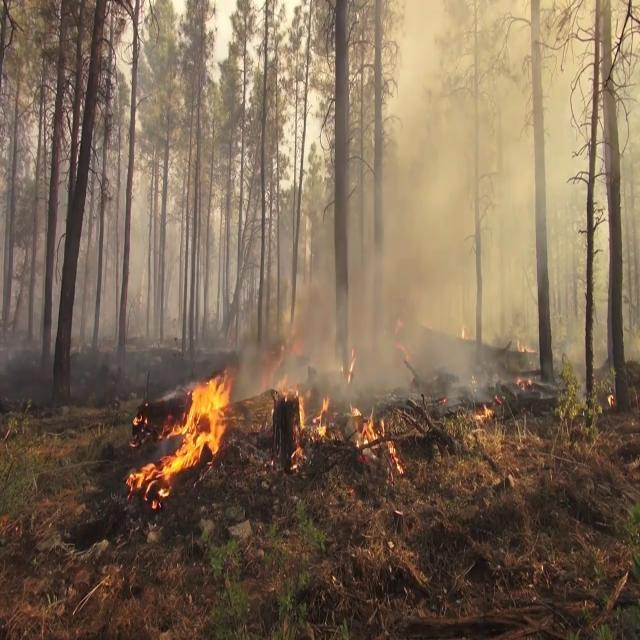Fire: (270, 343, 407, 479), (124, 366, 232, 512), (474, 404, 496, 424)
Smoke: (0, 1, 640, 357), (410, 362, 516, 401), (236, 362, 274, 416)
